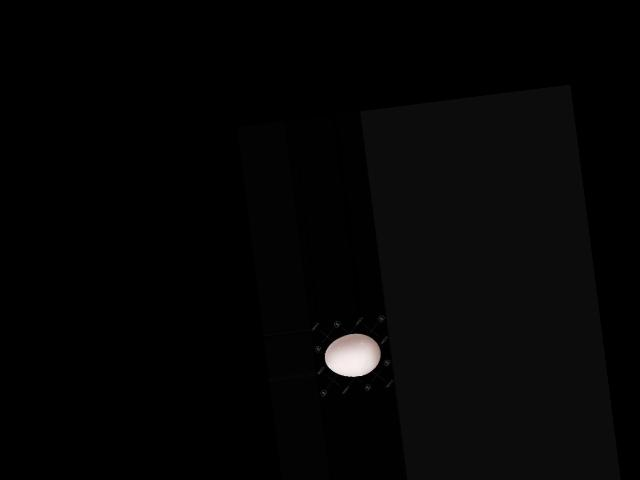egg: (322, 331, 383, 380)
